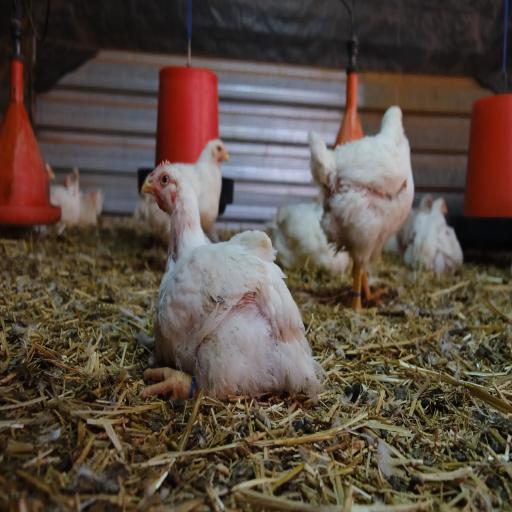healthy: (141, 154, 197, 233)
